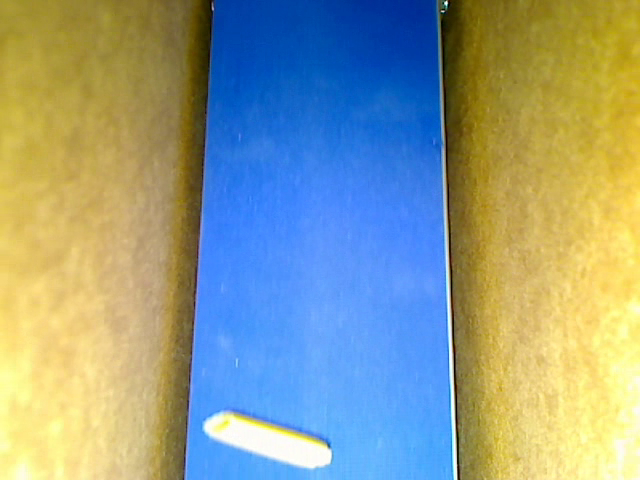penne: (202, 410, 331, 468)
